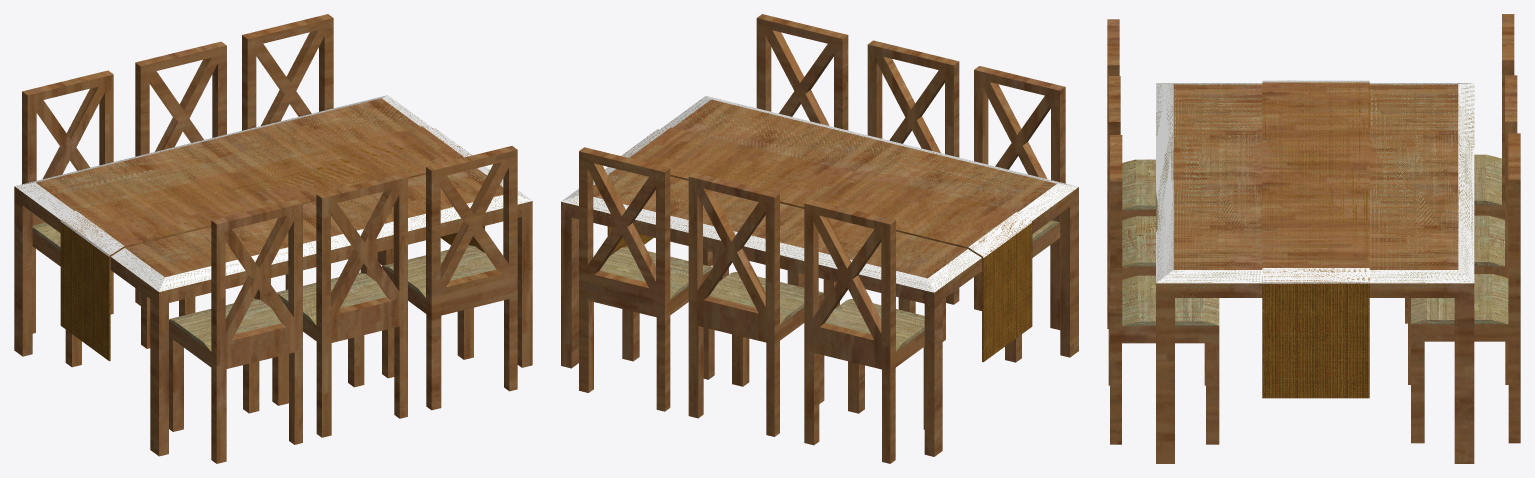
Rendered from kyemekmasası.dae.
3 views of the same model, side by side, from view 1: azimuth 30°, elevation 25°; view 2: azimuth 150°, elevation 25°; view 3: azimuth 270°, elevation 25° (orthographic). The views are drawn at different scales.
Parts seen in each view (by area): view 1: Component_3 (×24); view 2: Component_3 (×24); view 3: Component_3 (×22).
Part boxes in pixels (bbox=[...]): Component_3 (×24): bbox=[14, 14, 532, 463]; Component_3 (×24): bbox=[561, 14, 1078, 463]; Component_3 (×22): bbox=[1107, 14, 1520, 463].
Bounding box in the file's own units: 134 × 116 × 81.73.
Materials: 4 (3 with a texture image).
